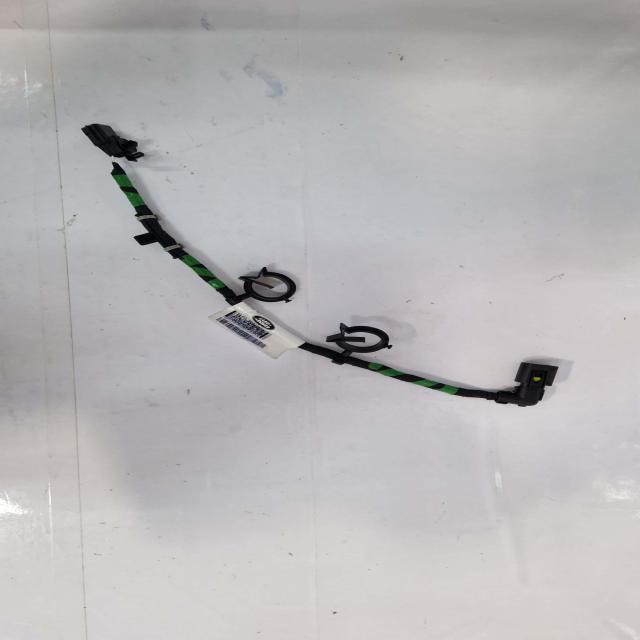AJ20_D6_Cable: (111, 159, 494, 398)
Clip: (328, 321, 392, 362), (239, 265, 297, 300)
Connector: (80, 119, 144, 158)
Info: (210, 300, 306, 356)
strap: (494, 360, 556, 404), (164, 241, 184, 249), (135, 211, 157, 218)
